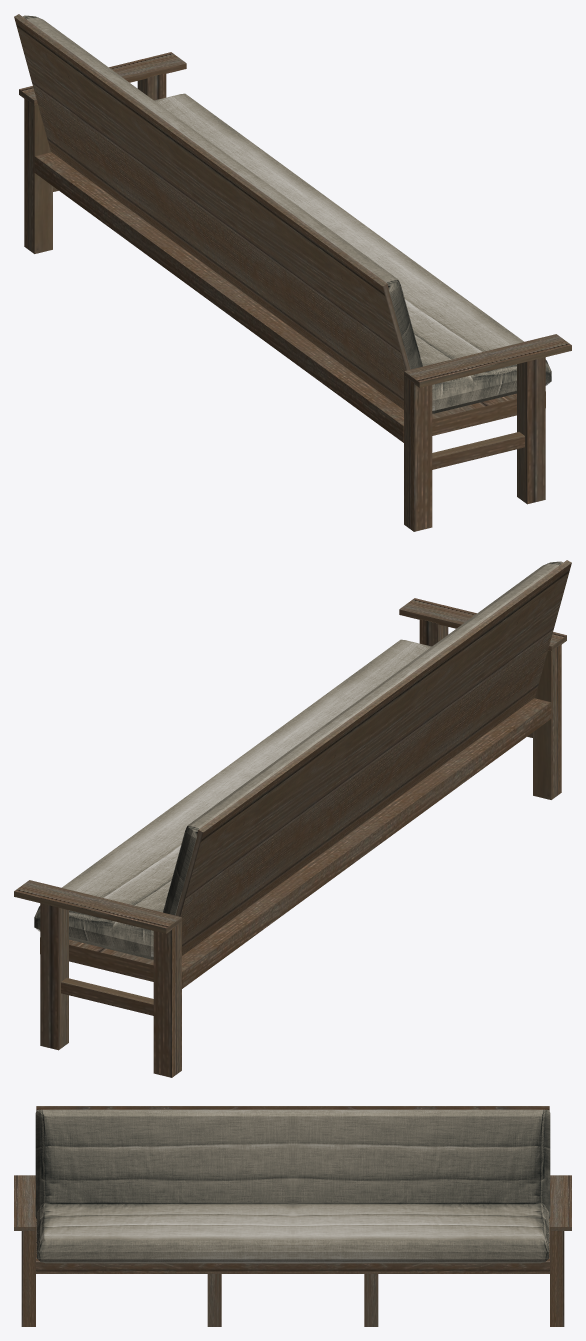
File: MA_Bench.FBX
3 views of the same model, one above another, from view 1: azimuth 30°, elevation 25°; view 2: azimuth 150°, elevation 25°; view 3: azimuth 270°, elevation 25° (orthographic). The views are drawn at different scales.
Parts seen in each view (by area): view 1: MA_Bench; view 2: MA_Bench; view 3: MA_Bench.
Boxes of the visible parts, bbox=[...] form: MA_Bench: bbox=[14, 14, 571, 531]; MA_Bench: bbox=[14, 560, 571, 1077]; MA_Bench: bbox=[14, 1106, 571, 1326].
Bounding box in the file's own units: 66.66 × 89.78 × 267.
